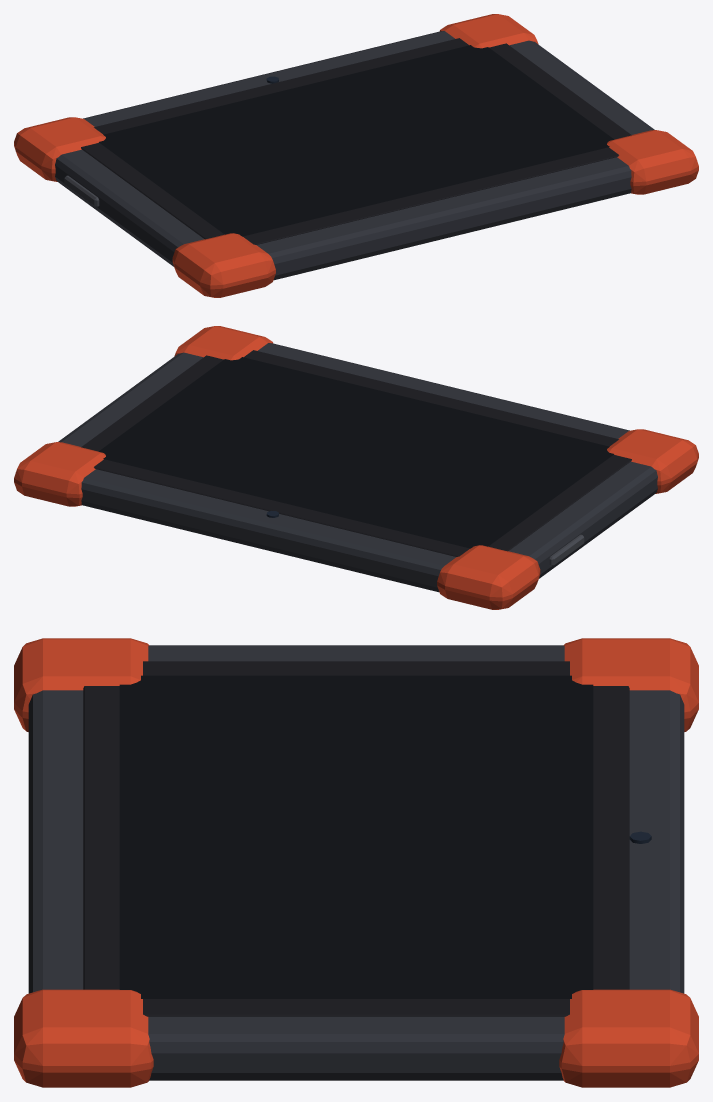
File: tablet_perito.obj
3 renders of one model, top to bottom at view 1: azimuth 30°, elevation 25°; view 2: azimuth 150°, elevation 25°; view 3: azimuth 270°, elevation 25°, orthographic. The views are drawn at different scales.
Parts seen in each view (by area): view 1: tablet_perito; view 2: tablet_perito; view 3: tablet_perito.
Part boxes in pixels (<box>): tablet_perito: <box>14,14,698,297</box>; tablet_perito: <box>14,326,698,609</box>; tablet_perito: <box>14,638,698,1087</box>.
Bounding box in the file's own units: 0.268 × 0.021 × 0.188.
